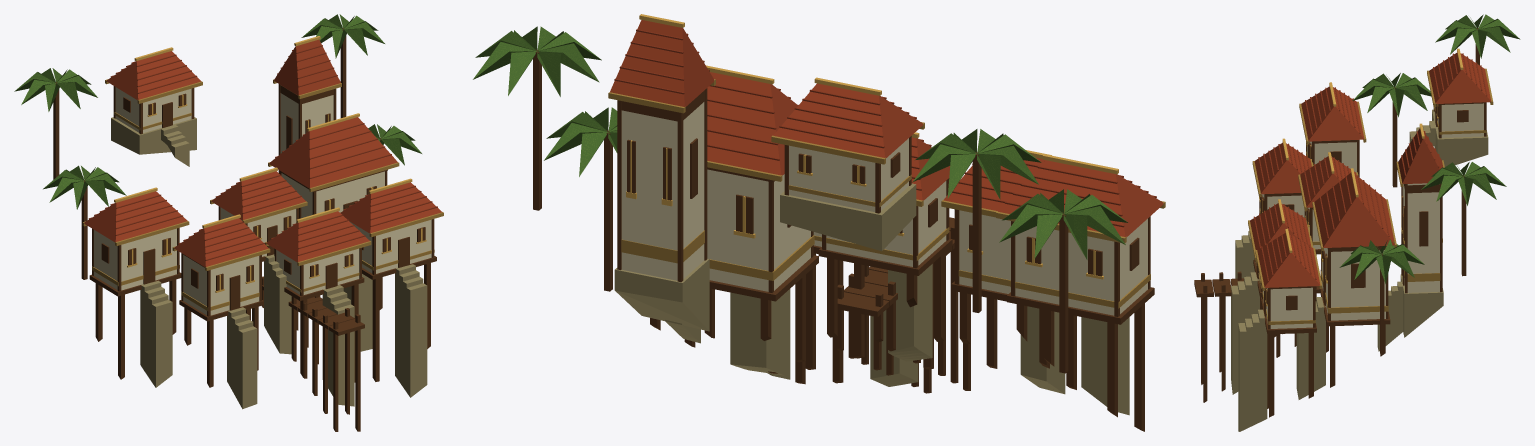
File: batavia.obj
3 renders of one model, left to right at view 1: azimuth 30°, elevation 25°; view 2: azimuth 150°, elevation 25°; view 3: azimuth 270°, elevation 25°, orthographic. The views are drawn at different scales.
Visible parts, largest first — view 1: batavia; view 2: batavia; view 3: batavia.
Boxes of the visible parts, x1,y1,x2,y2 form: batavia: [14, 14, 443, 431]; batavia: [473, 14, 1165, 431]; batavia: [1194, 14, 1520, 431].
Bounding box in the file's own units: 16.3 × 12.92 × 12.48.
